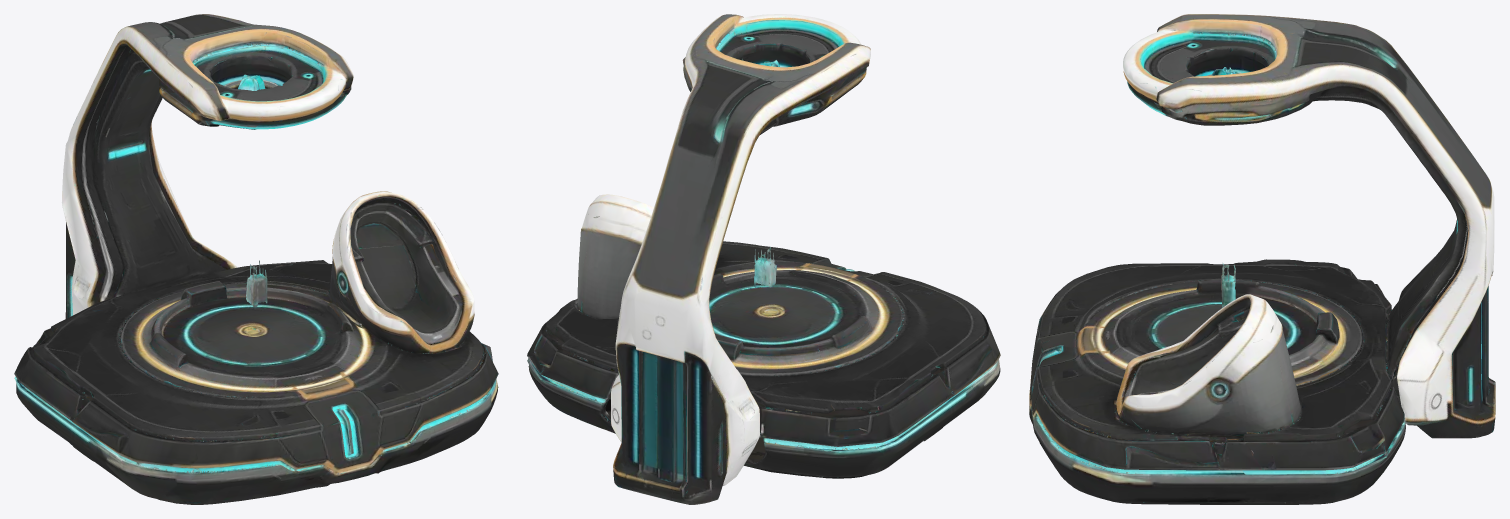
The model's file is eoncity_eonbot_companion_dock.f533a1036208.glb.
The picture shows the model from 3 angles, left to right: view 1: azimuth 30°, elevation 25°; view 2: azimuth 150°, elevation 25°; view 3: azimuth 270°, elevation 25°; orthographic projection. The views are drawn at different scales.
Visible parts, largest first — view 1: Mesh1.0; view 2: Mesh1.0; view 3: Mesh1.0.
Part boxes in pixels (x1,y1,x2,y2): Mesh1.0: (14, 14, 498, 504); Mesh1.0: (527, 14, 1000, 504); Mesh1.0: (1029, 14, 1495, 504).
Size of the model in its own units: 1.82 by 1.69 by 1.9.
1 material, 1 textured.
